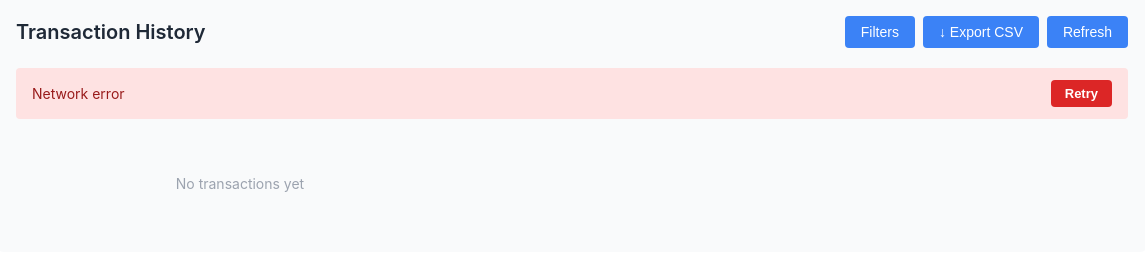
Test case: TransactionHistory error retry (#747) › re-fetches and clears the error when Retry is clicked
Expected: the message "Network error Retry" is shown, [16,68,1128,119]
Click the button "Retry". click: (1081, 94)
box: [1051,80,1112,107]
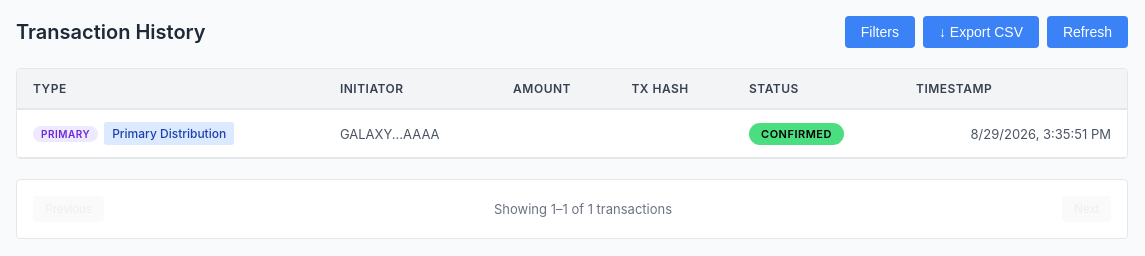
Expected: the message with test id "history-error" is gone
Expected: the text "Showing 1–1 of 1 transactions" is shown, [494,201,672,217]
